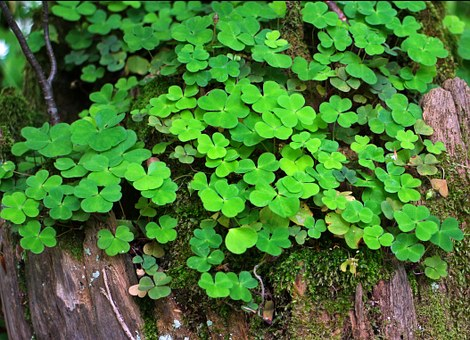oxalis: (52, 2, 470, 273)
